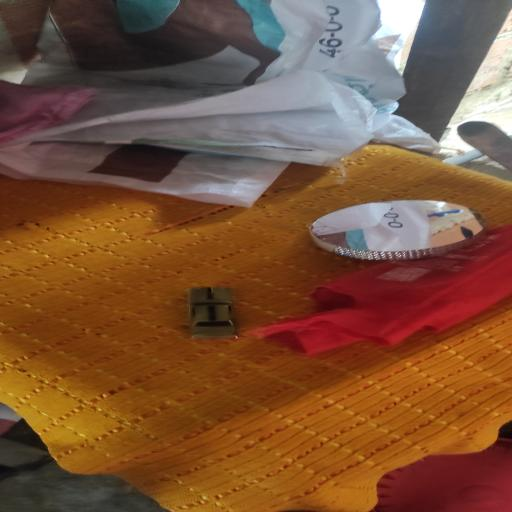Carrito: (189, 287, 237, 338)
